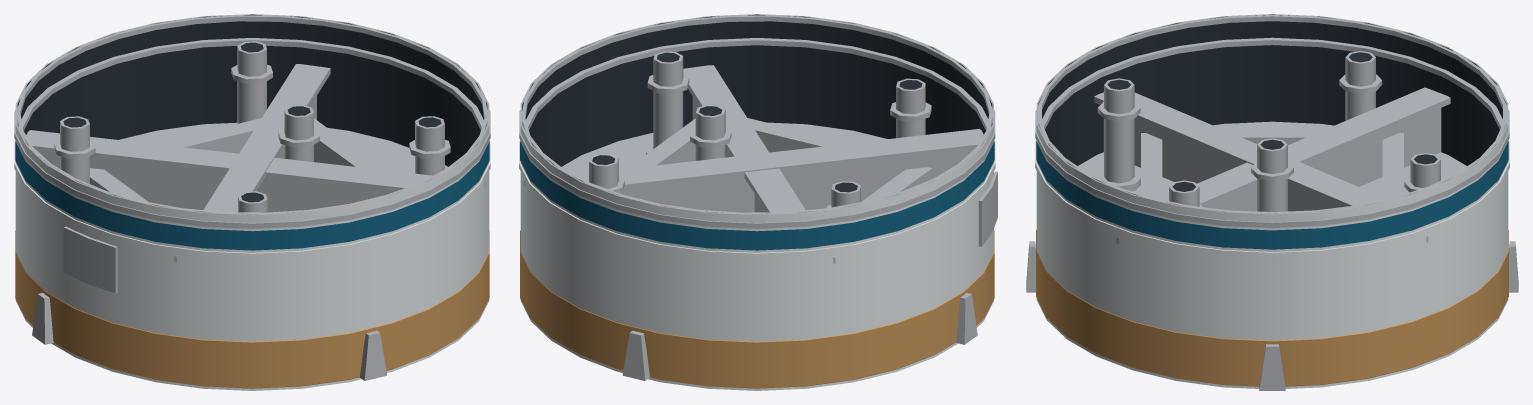
The model's file is mount_s1_5_d54.glb.
3 renders of one model, left to right at view 1: azimuth 30°, elevation 25°; view 2: azimuth 150°, elevation 25°; view 3: azimuth 270°, elevation 25°, orthographic.
Parts seen in each view (by area): view 1: mount_s1_5_d54_mesh; view 2: mount_s1_5_d54_mesh; view 3: mount_s1_5_d54_mesh.
Part boxes in pixels (x1,y1,x2,y2): mount_s1_5_d54_mesh: [14, 14, 490, 390]; mount_s1_5_d54_mesh: [519, 14, 997, 390]; mount_s1_5_d54_mesh: [1026, 14, 1518, 390].
Bounding box in the file's own units: 5.6 × 2.2 × 5.6.
